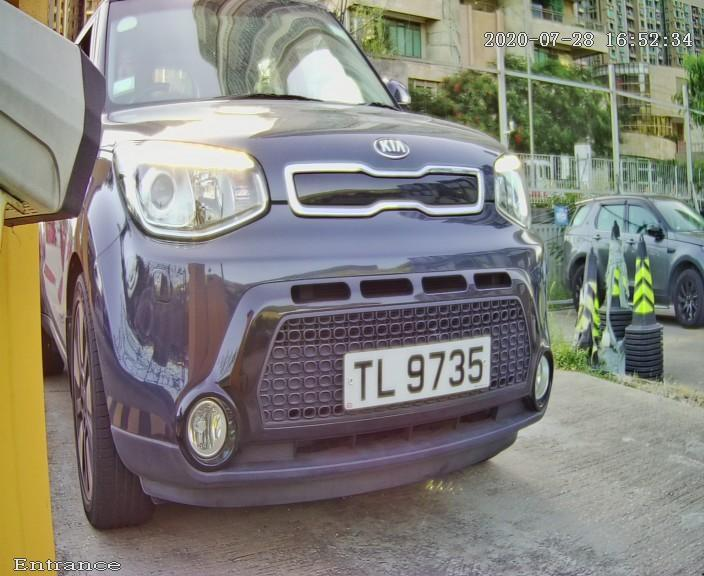privatecar: (26, 8, 626, 541)
